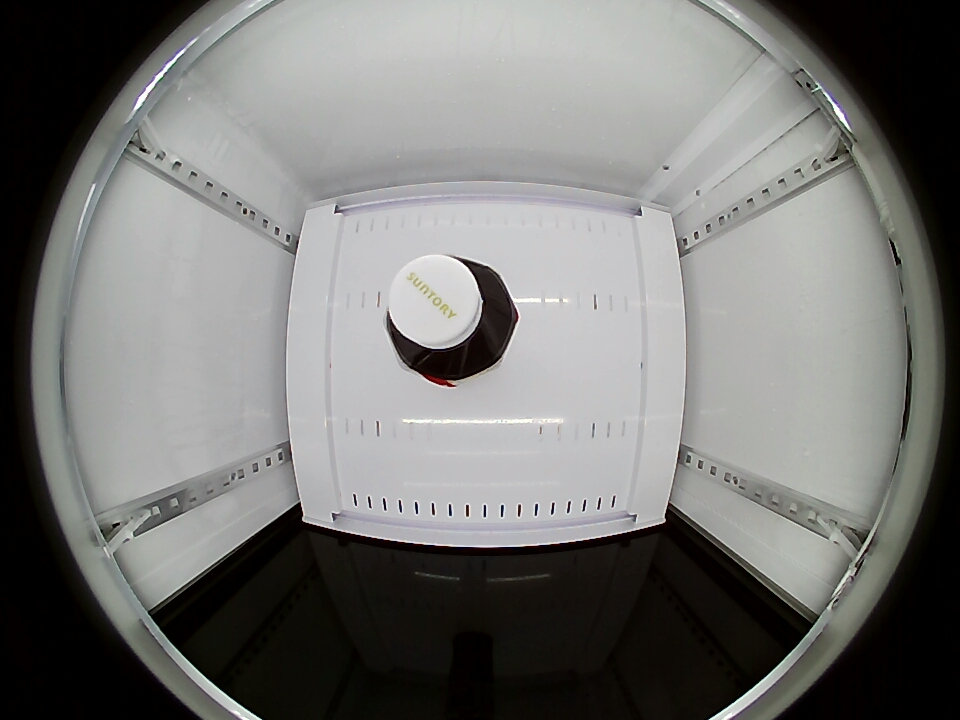wulongcha: (385, 254, 517, 382)
